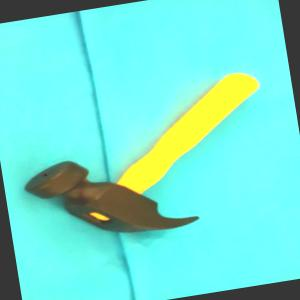martelo: (9, 66, 281, 250)
